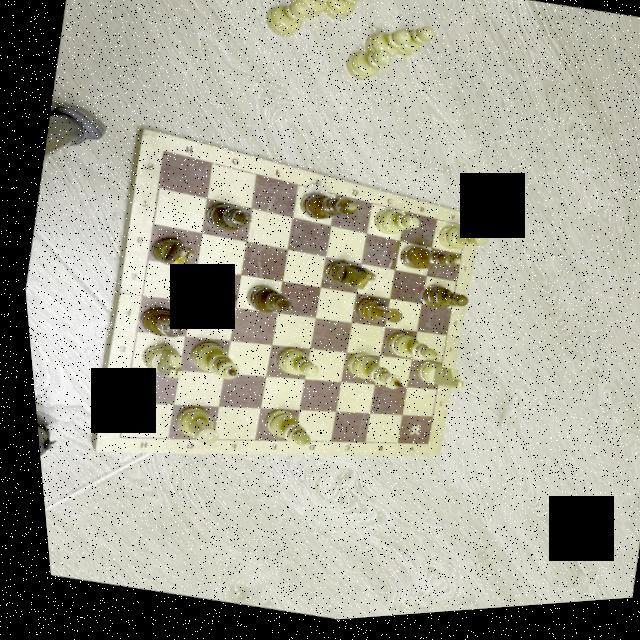chess-table-corners: (154, 148, 166, 159), (105, 434, 115, 444), (414, 446, 420, 452), (457, 230, 462, 236)
